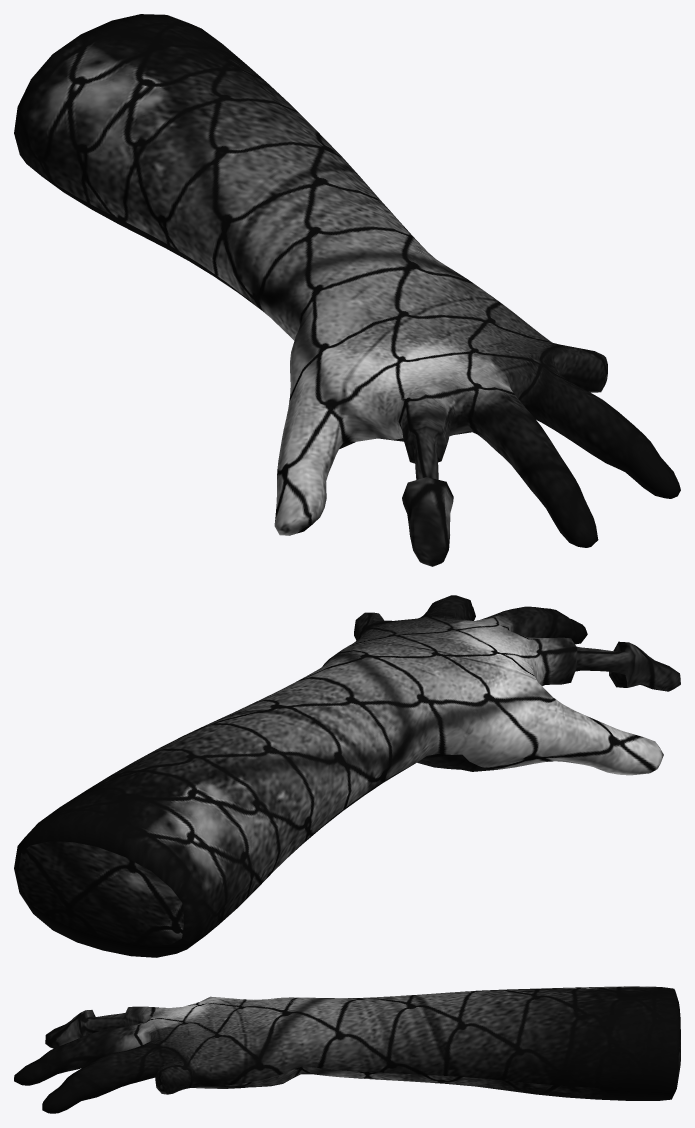
Rendered from mano_zombie.fbx.
The picture shows the model from 3 angles, top to bottom: view 1: azimuth 30°, elevation 25°; view 2: azimuth 150°, elevation 25°; view 3: azimuth 270°, elevation 25°; orthographic projection. The views are drawn at different scales.
Parts seen in each view (by area): view 1: AnatomyHandHumanMale:hand_basemesh; view 2: AnatomyHandHumanMale:hand_basemesh; view 3: AnatomyHandHumanMale:hand_basemesh.
Part boxes in pixels (x1,y1,x2,y2): AnatomyHandHumanMale:hand_basemesh: (14, 14, 680, 566); AnatomyHandHumanMale:hand_basemesh: (14, 595, 680, 957); AnatomyHandHumanMale:hand_basemesh: (14, 986, 680, 1113).
Size of the model in its own units: 16.01 by 8.09 by 42.28.
